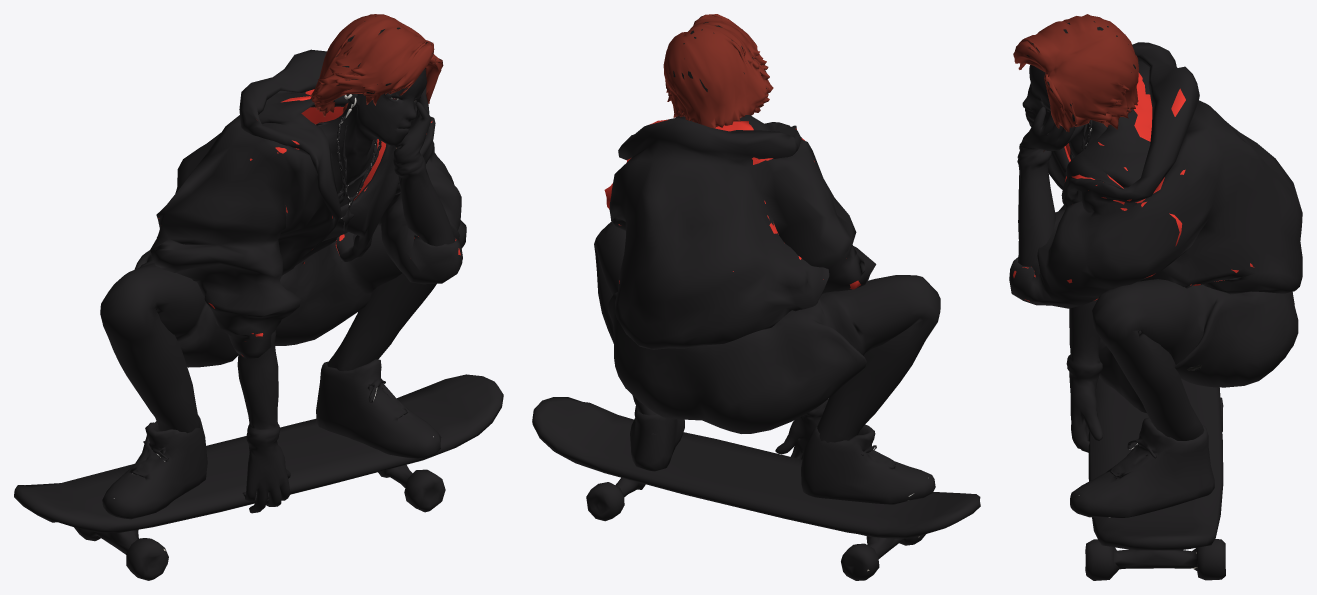
File: skater.glb
The picture shows the model from 3 angles, left to right: view 1: azimuth 30°, elevation 25°; view 2: azimuth 150°, elevation 25°; view 3: azimuth 270°, elevation 25°; orthographic projection. The views are drawn at different scales.
Parts seen in each view (by area): view 1: Object_34, Object_40, Object_54, Object_46, Object_38, Object_44, Object_36, Object_42, Object_6, Object_50; view 2: Object_34, Object_40, Object_54, Object_46, Object_38, Object_44, Object_6; view 3: Object_34, Object_40, Object_54, Object_38, Object_46, Object_42, Object_44, Object_6, Object_36.
Boxes of the visible parts, x1,y1,x2,y2 form: Object_34: [150, 49, 462, 359]; Object_40: [100, 220, 466, 433]; Object_54: [14, 374, 503, 580]; Object_46: [102, 359, 441, 519]; Object_38: [310, 14, 443, 116]; Object_44: [237, 330, 290, 513]; Object_36: [316, 68, 426, 207]; Object_42: [393, 86, 455, 246]; Object_6: [158, 89, 460, 356]; Object_50: [336, 115, 377, 231]; Object_34: [609, 115, 876, 349]; Object_40: [594, 222, 940, 442]; Object_54: [532, 397, 980, 580]; Object_46: [630, 406, 935, 504]; Object_38: [663, 14, 773, 128]; Object_44: [775, 399, 828, 459]; Object_6: [604, 119, 860, 289]; Object_34: [1009, 42, 1302, 308]; Object_40: [1092, 279, 1298, 440]; Object_54: [1085, 377, 1225, 580]; Object_38: [1013, 14, 1138, 132]; Object_46: [1070, 338, 1214, 517]; Object_42: [1017, 106, 1084, 276]; Object_44: [1066, 298, 1103, 452]; Object_6: [1013, 72, 1254, 301]; Object_36: [1022, 65, 1107, 157].
Bounding box in the file's own units: 0.9725 × 0.9935 × 0.4963.
Materials: 17 (6 with a texture image).
